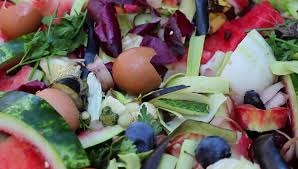kitchen_waste: (1, 90, 92, 169), (85, 1, 130, 63), (109, 45, 168, 92), (162, 71, 240, 97), (231, 102, 293, 134), (1, 1, 47, 39), (192, 130, 237, 167), (152, 91, 218, 116), (163, 8, 203, 48)
